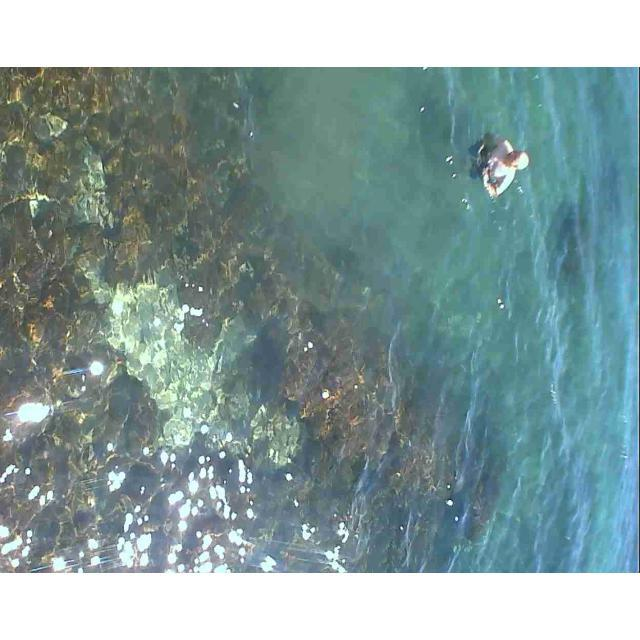human: (468, 120, 529, 206)
